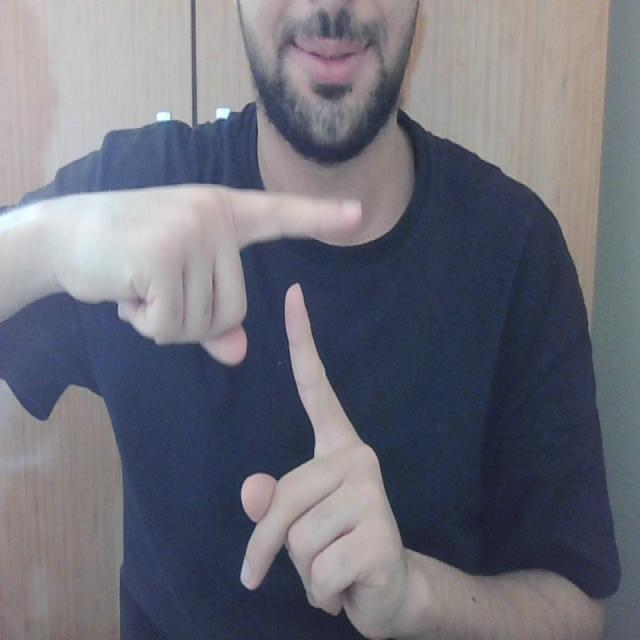Tesekkurler: (213, 170, 375, 468)
